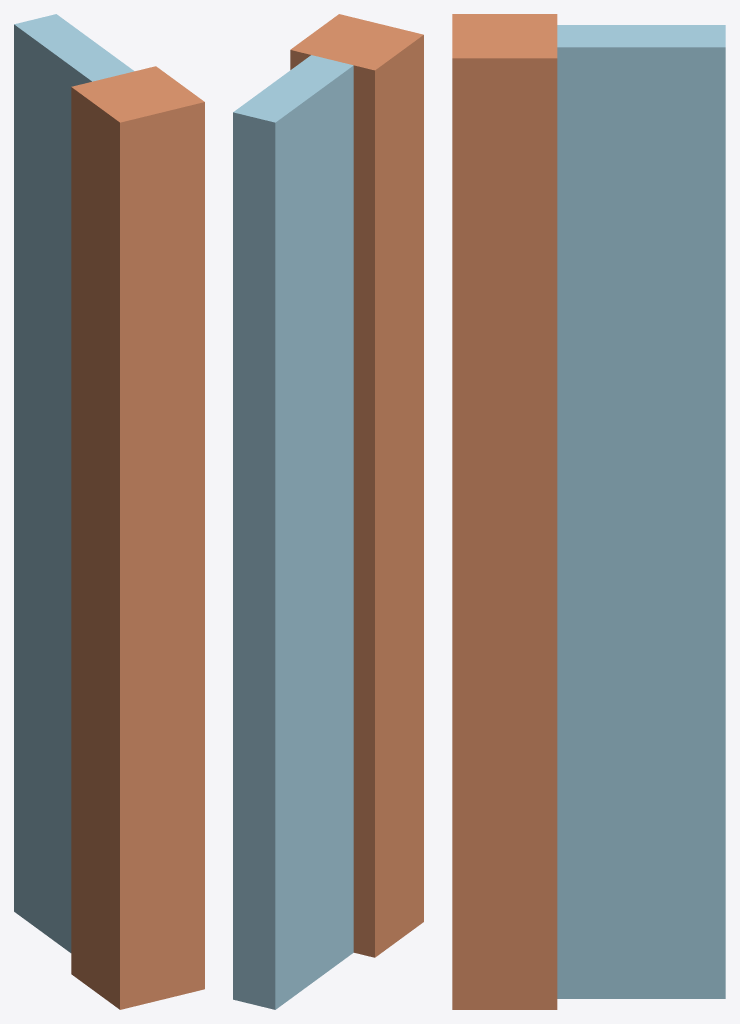
Rendered from wallSide.fbx.
The picture shows the model from 3 angles, left to right: view 1: azimuth 30°, elevation 25°; view 2: azimuth 150°, elevation 25°; view 3: azimuth 270°, elevation 25°; orthographic projection. The views are drawn at different scales.
Parts seen in each view (by area): view 1: wallSide; view 2: wallSide; view 3: wallSide.
Part boxes in pixels (x1=…): wallSide: x1=14, y1=14, x2=204, y2=1009; wallSide: x1=233, y1=14, x2=423, y2=1009; wallSide: x1=452, y1=14, x2=725, y2=1009.
Bounding box in the file's own units: 1 × 10 × 2.6.
